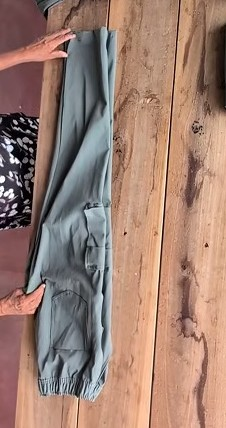TROUSER: (2, 4, 207, 428)
